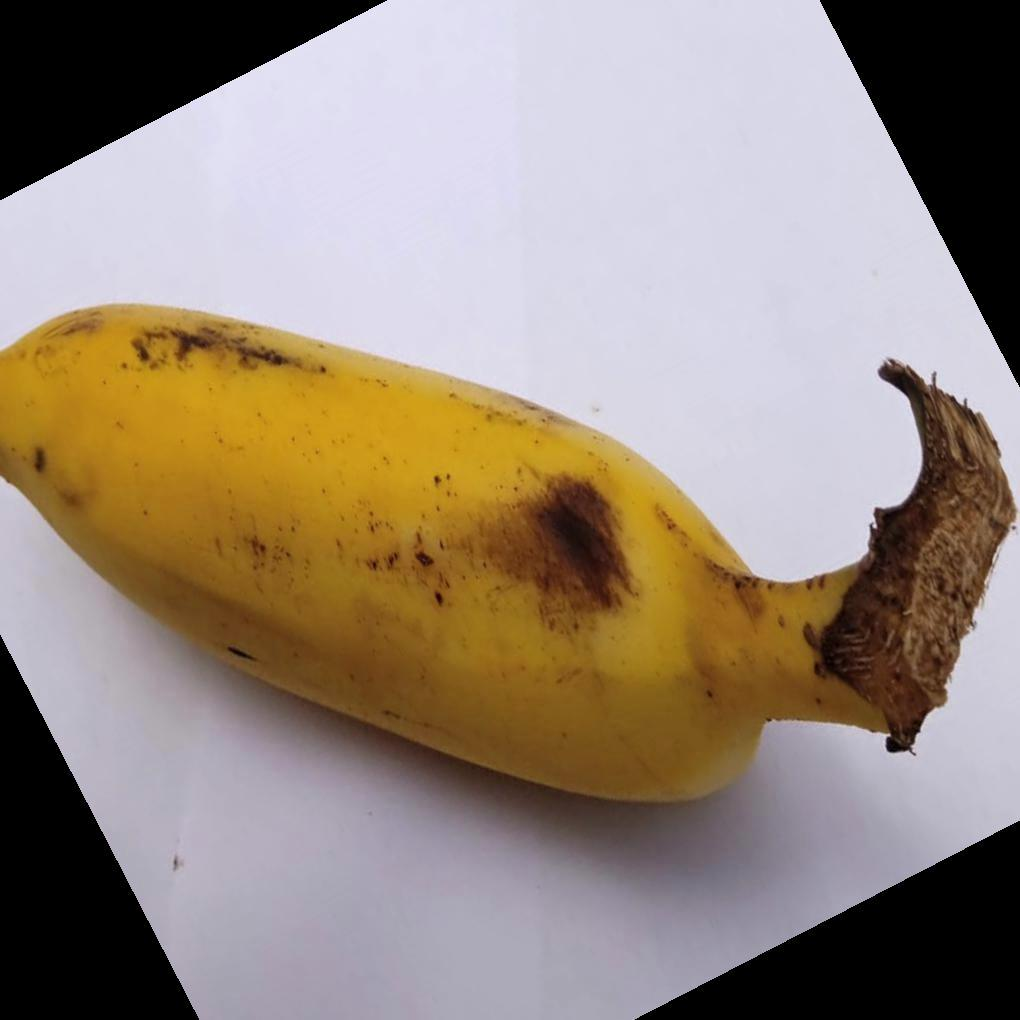Banana Ripe: (0, 277, 977, 904)
